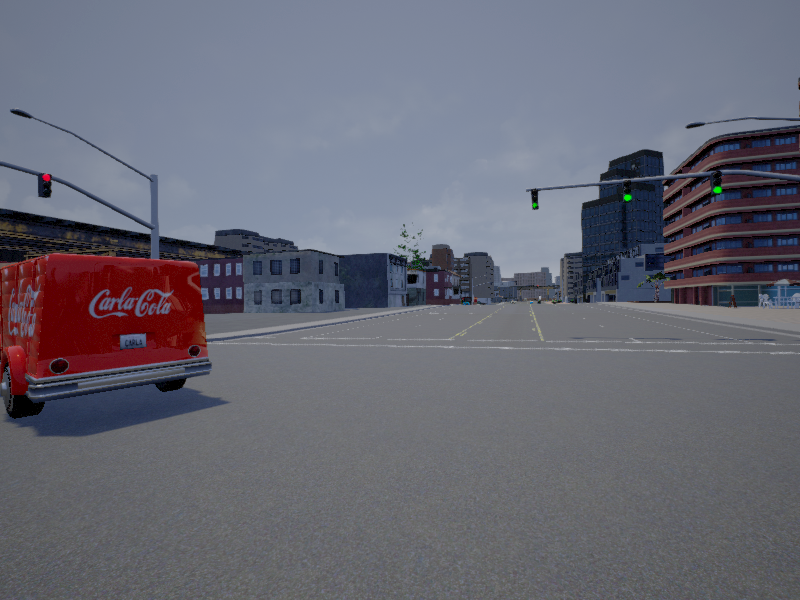Benign: (1, 259, 206, 421)
